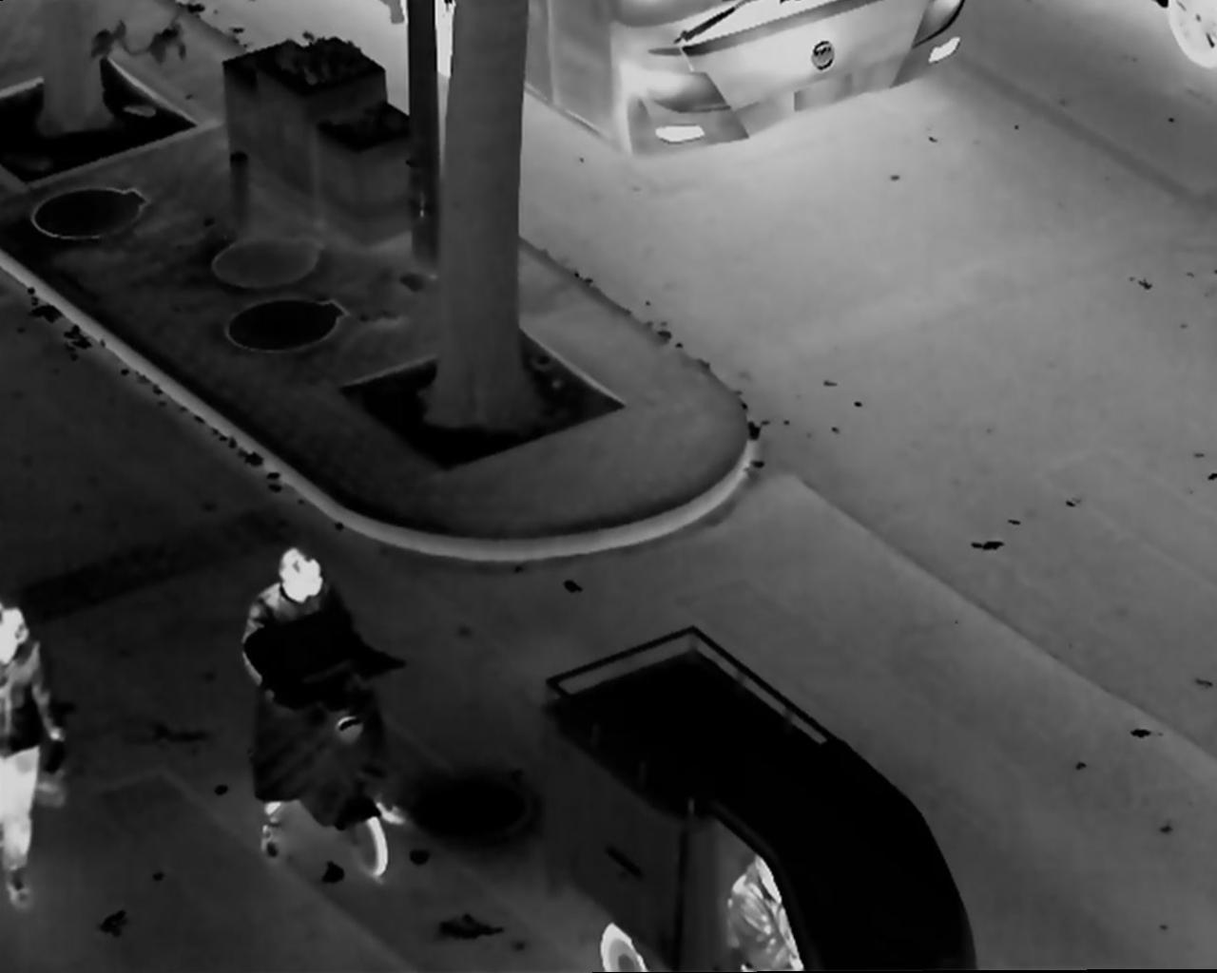person: (240, 547, 411, 862), (727, 847, 814, 973)
